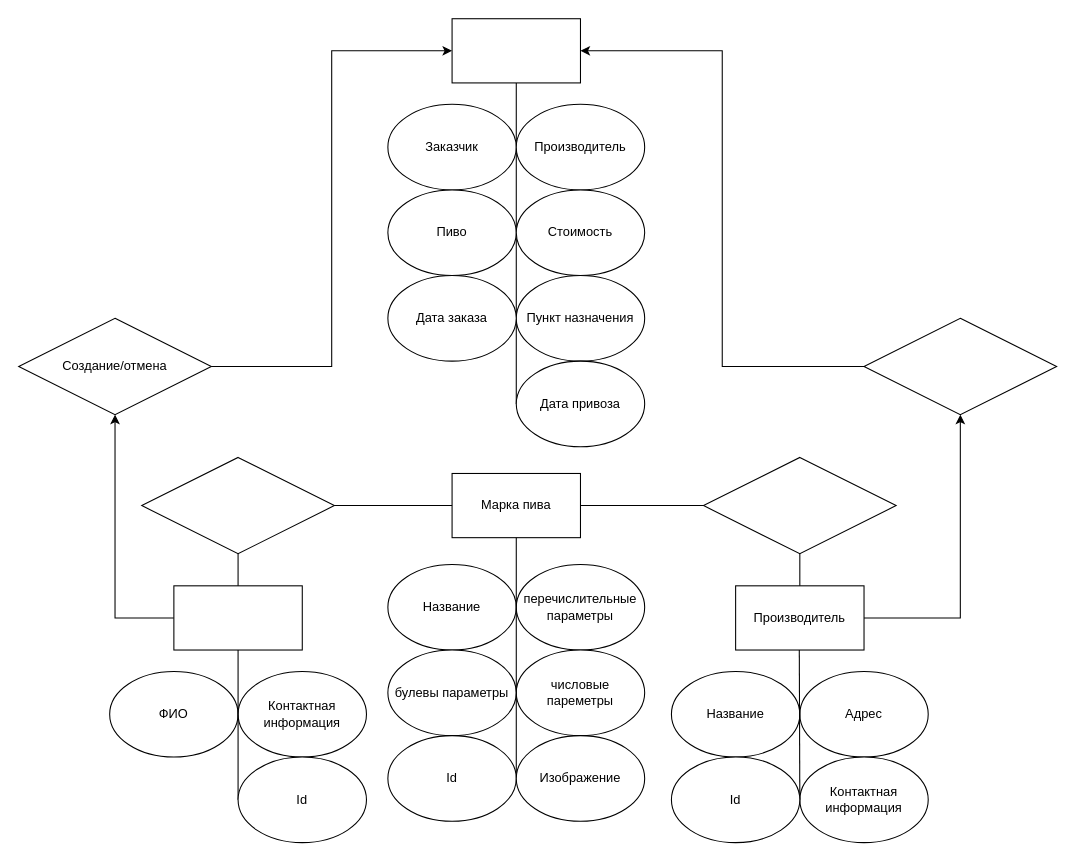
This 1075x861 diagram has some shape labels left out. The shapes that lost their labels are listed below. From the top down, each one's centre as x and y in pixels, then its label:
the point at 515,50: Заказ
the point at 960,366: Принятие/отмена
the point at 237,505: Список избранного
the point at 799,505: Обладание продуктом
the point at 237,617: Покупатель
